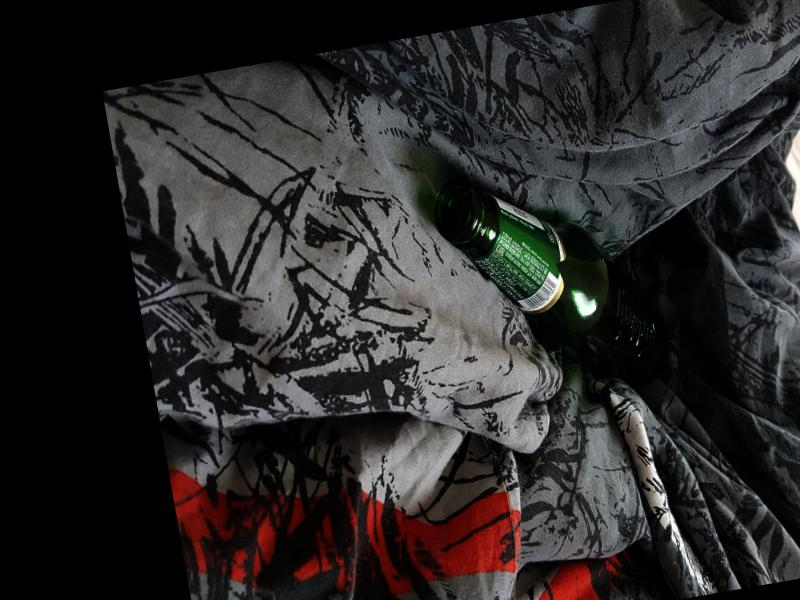Beer: (428, 150, 674, 416)
